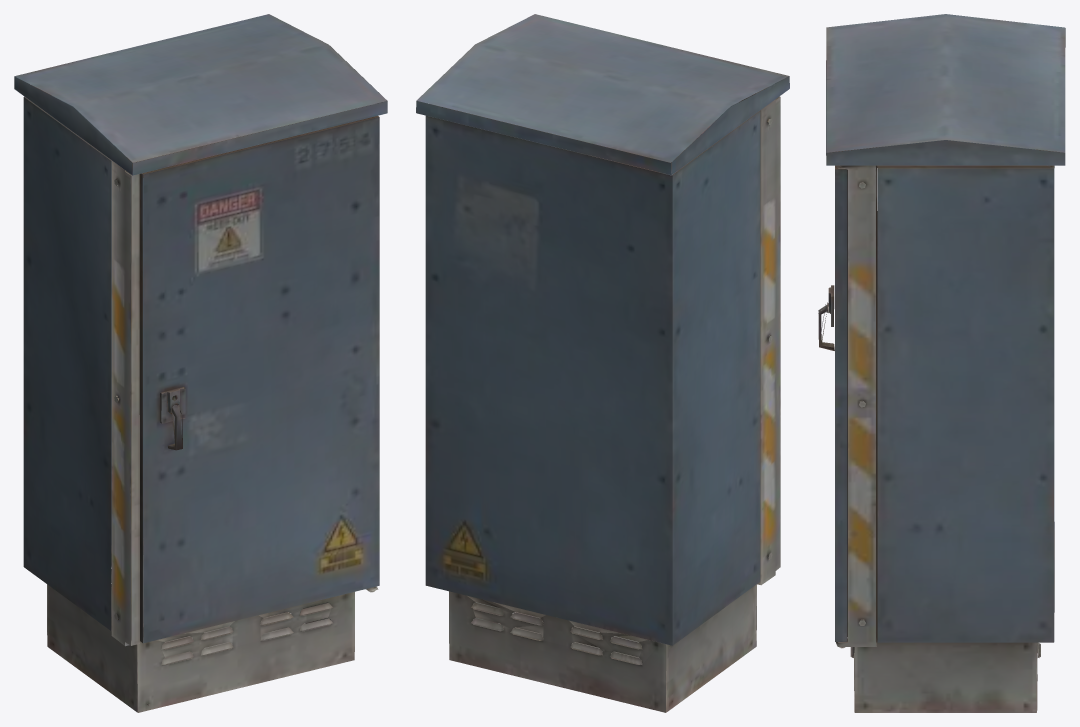
The model's file is utility_box_01.glb.
The picture shows the model from 3 angles, left to right: view 1: azimuth 30°, elevation 25°; view 2: azimuth 150°, elevation 25°; view 3: azimuth 270°, elevation 25°; orthographic projection.
Parts seen in each view (by area): view 1: utility_box_01_box; view 2: utility_box_01_box; view 3: utility_box_01_box.
Boxes of the visible parts, left/top/right/bottom form: utility_box_01_box: left=14, top=14, right=387, bottom=712; utility_box_01_box: left=416, top=14, right=789, bottom=712; utility_box_01_box: left=818, top=14, right=1065, bottom=712.
Size of the model in its own units: 0.5178 by 1.12 by 0.4298.
Materials: 1 (1 with a texture image).
